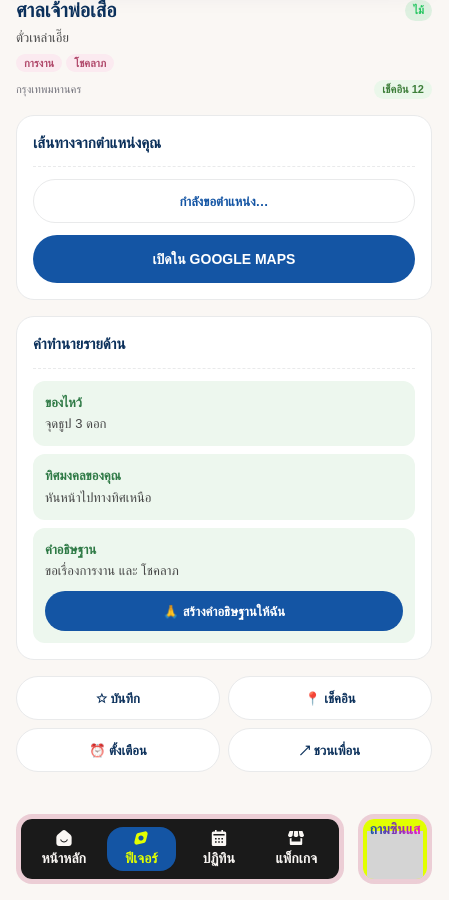
Test case: หน้ารายละเอียดสถานที่ (SacredPlaceDetailScreen) › บันทึก → ปุ่มเปลี่ยนเป็น "บันทึกแล้ว" + เก็บ localStorage
(page scrolled)
Click the button with test id "sacred-place-save": {"x": 118, "y": 698} [16, 676, 220, 720]
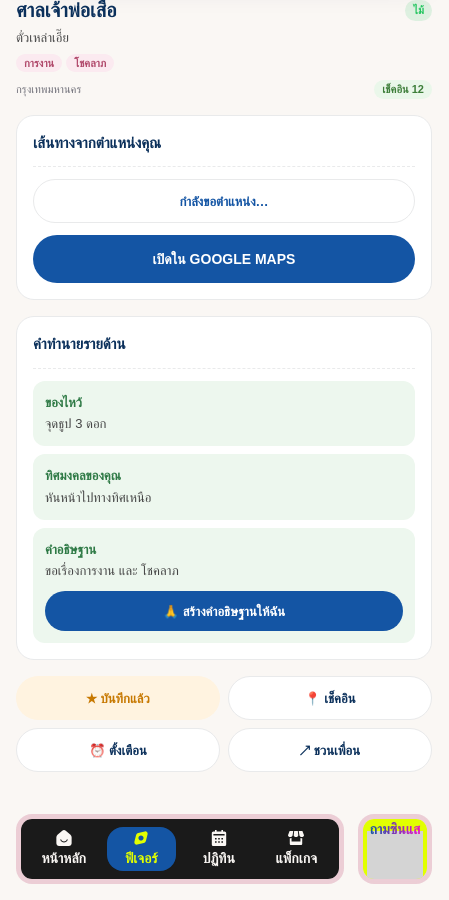
Check: the button with test id "sacred-place-save" shows "บันทึกแล้ว", box [16, 676, 220, 720]
